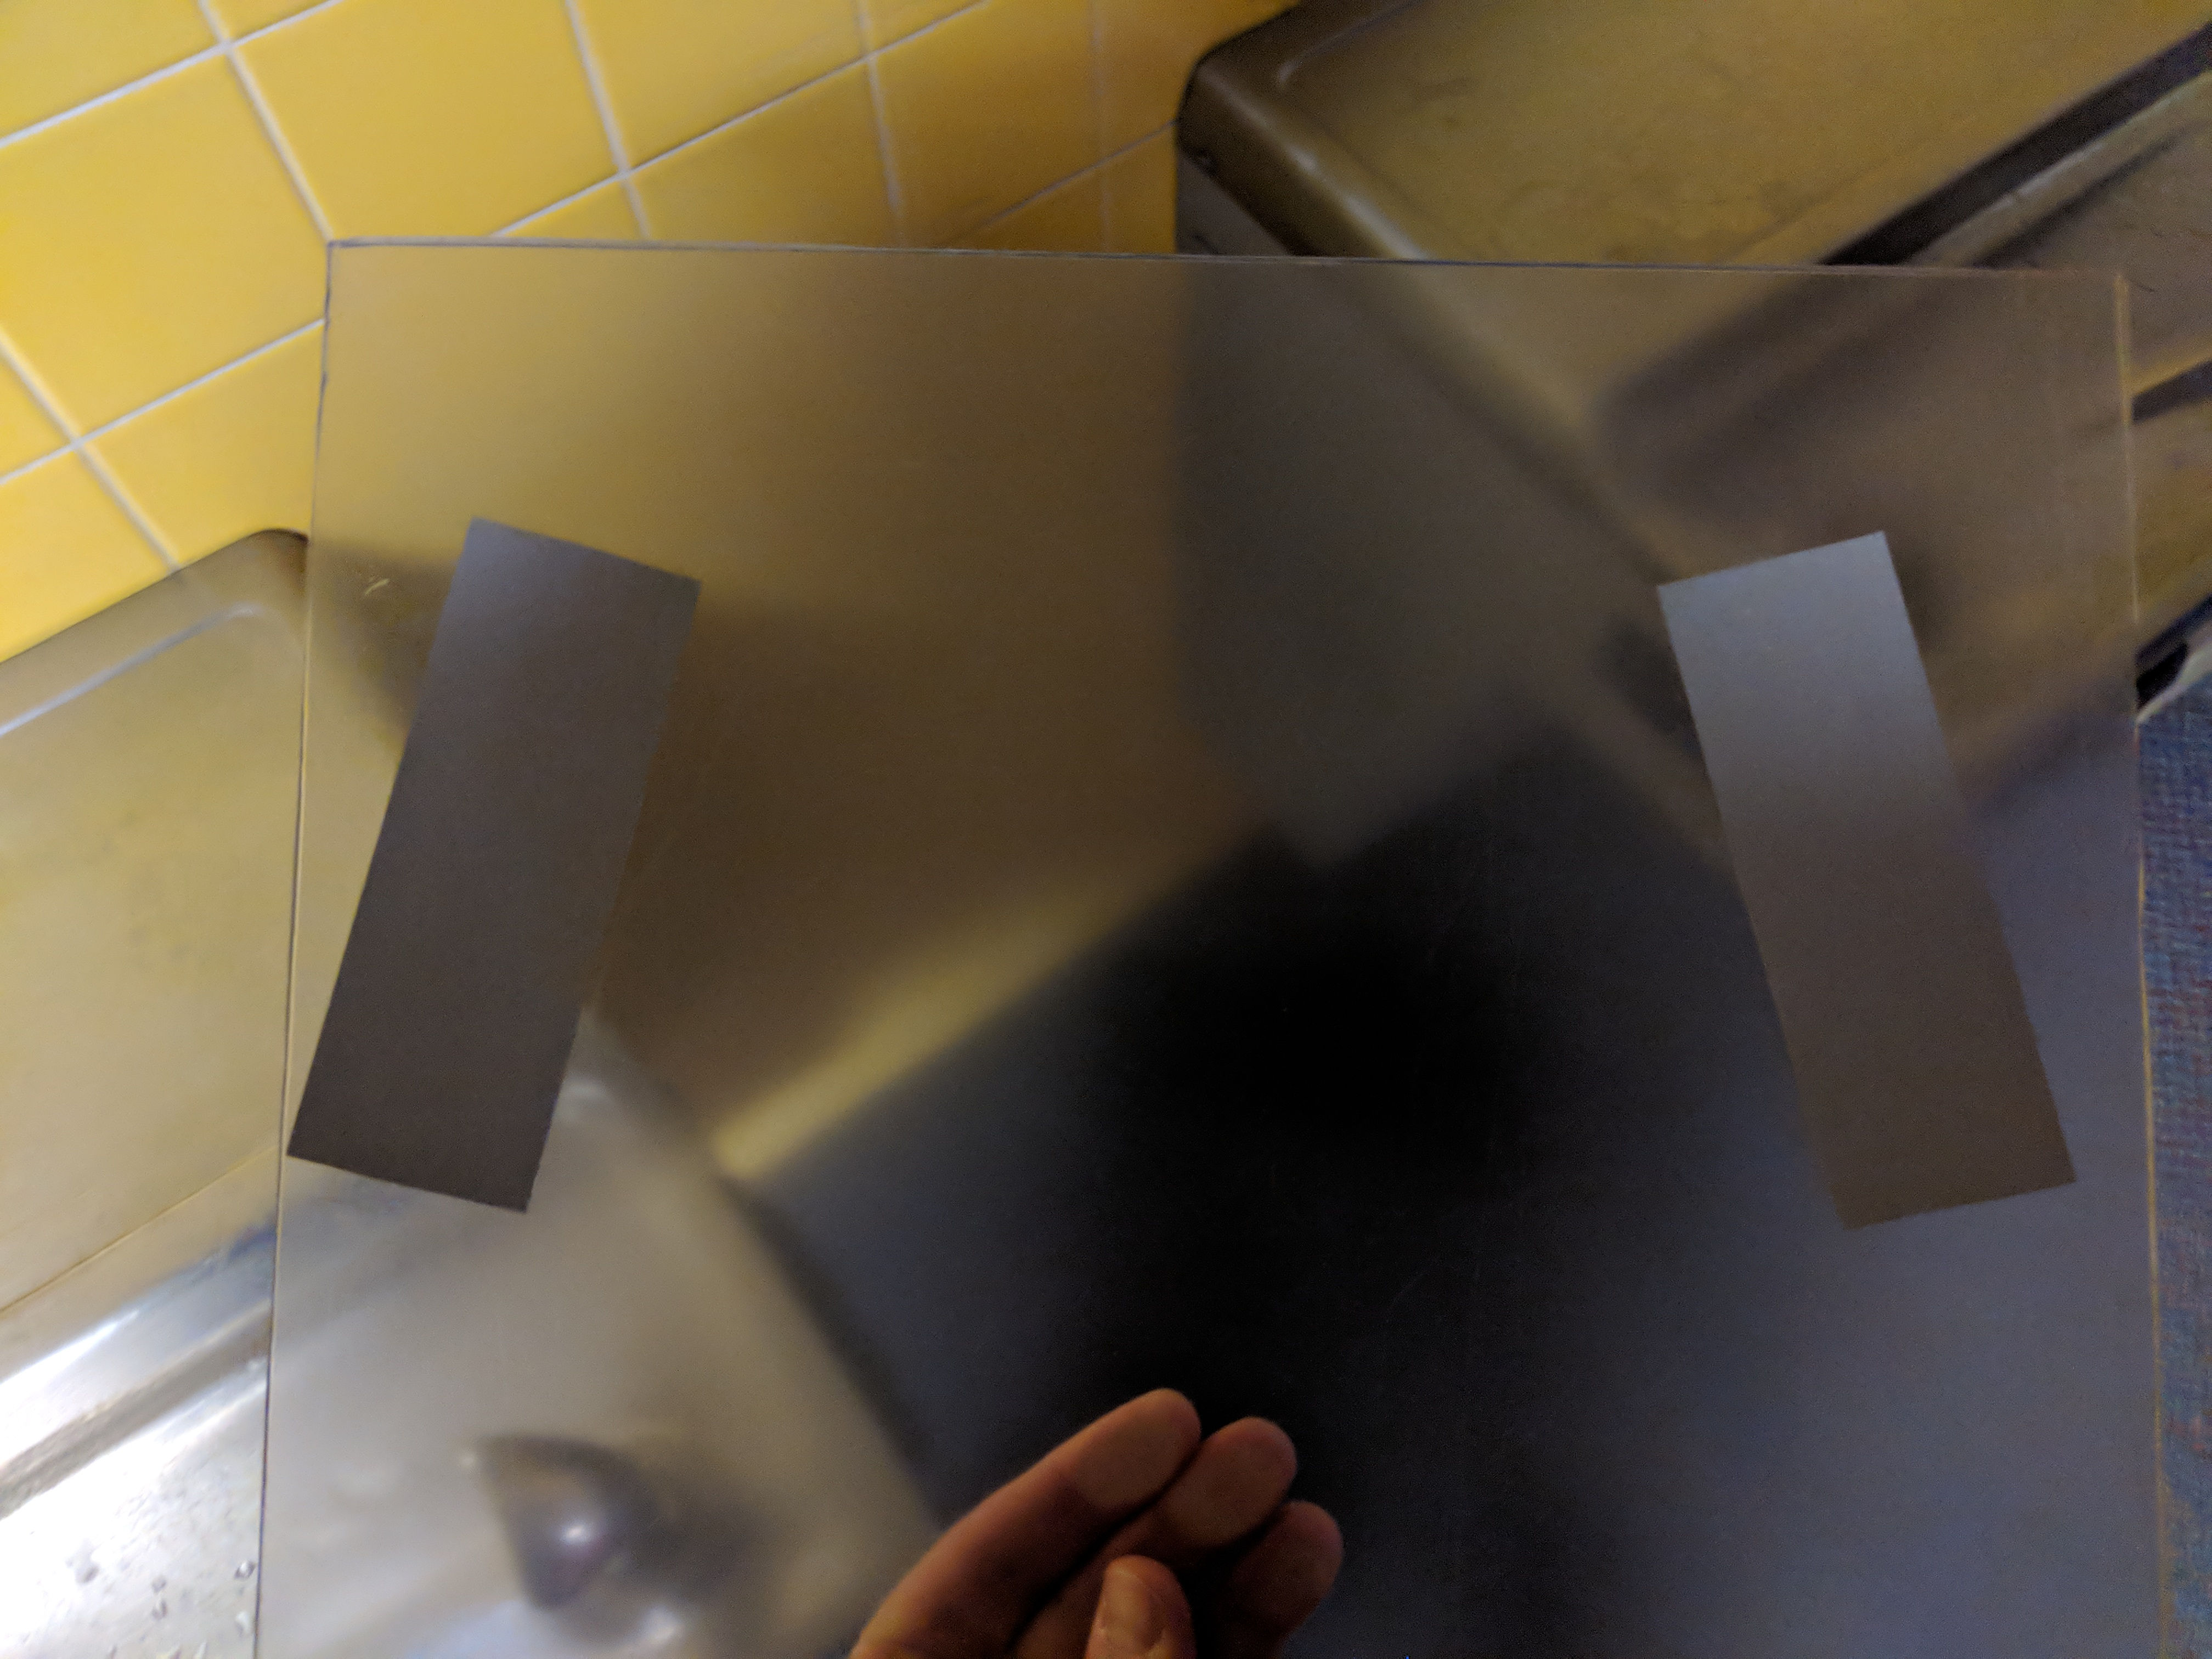vision_target: (282, 502, 2095, 1246)
